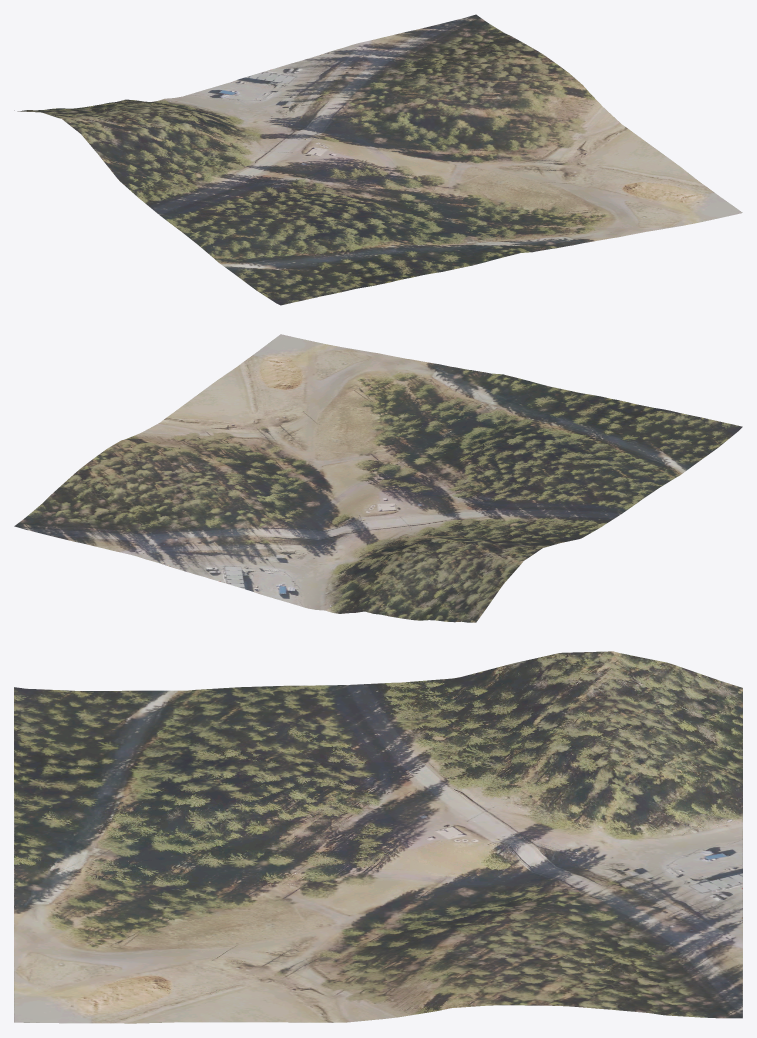
Rendered from CM_Terrain_24489434_6822456.fbx.
3 renders of one model, top to bottom at view 1: azimuth 30°, elevation 25°; view 2: azimuth 150°, elevation 25°; view 3: azimuth 270°, elevation 25°, orthographic. The views are drawn at different scales.
Visible parts, largest first — view 1: CM_Terrain_24489434_6822456_LOD0; view 2: CM_Terrain_24489434_6822456_LOD0; view 3: CM_Terrain_24489434_6822456_LOD0.
Part boxes in pixels (x1,y1,x2,y2): CM_Terrain_24489434_6822456_LOD0: [14, 14, 742, 305]; CM_Terrain_24489434_6822456_LOD0: [14, 334, 742, 622]; CM_Terrain_24489434_6822456_LOD0: [14, 651, 742, 1023].
Size of what is drawn, in the model's own units: 205 by 22.73 by 205.
